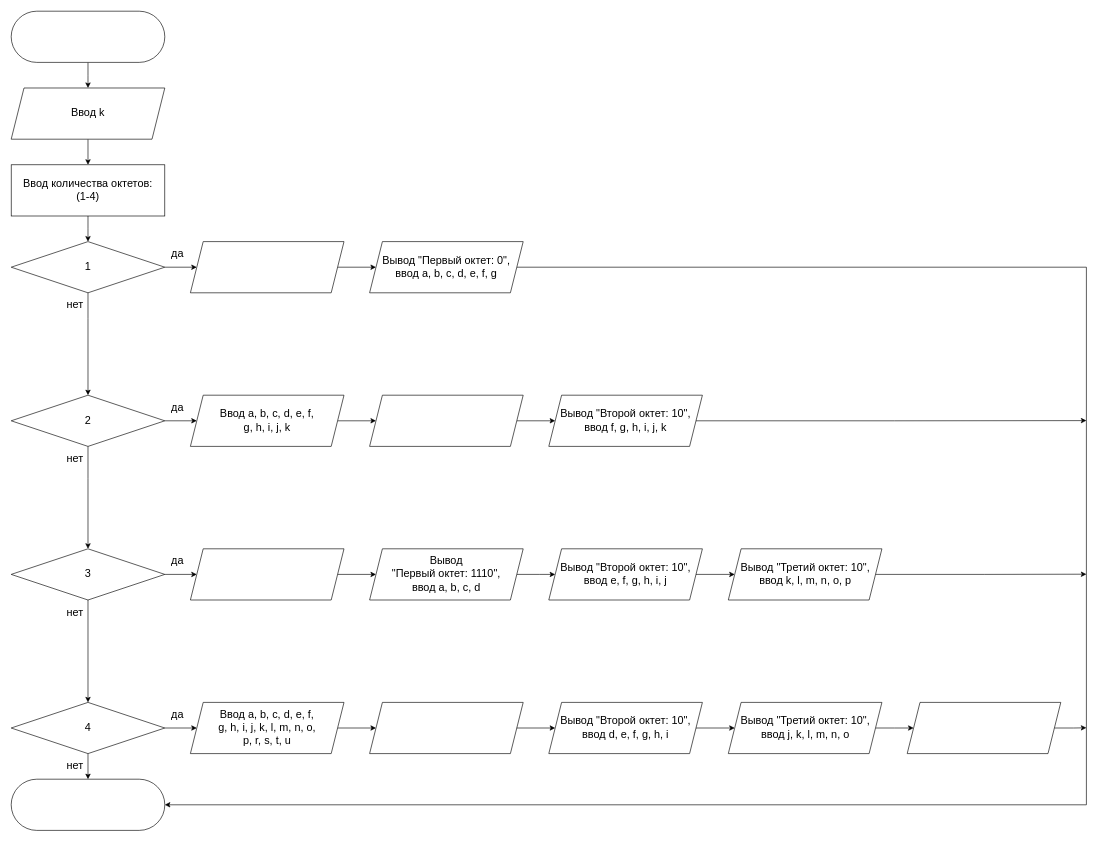
Some shapes in this 1103 by 842 pixel diagram are drawn without their labels. The centre of each missing label's shape, as x and y in pixels:
Ввод a, b, c, d, e, f, g: [267,267]
Ввод a, b, c, d, e, f, g, h, i, j, k, l, m, n, o, p: [267,574]
Вывод "Первый октет: 110", ввод a, b, c, d, e: [446,420]
Вывод "Первый октет: 11110", ввод a, b, c: [446,728]
Вывод "Четвёртый октет: 10", ввод p, q, r, s, t, u: [984,728]
Конец: [88,804]
Начало: [88,36]
